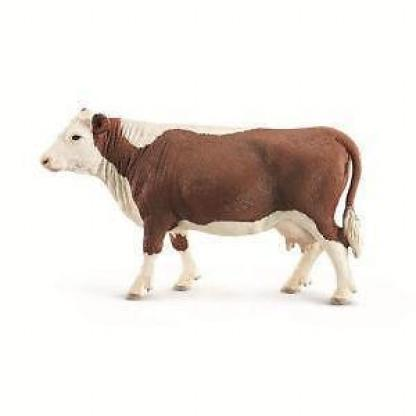cow: (41, 114, 360, 305)
